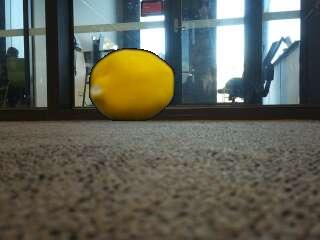lemon: (91, 49, 176, 120)
